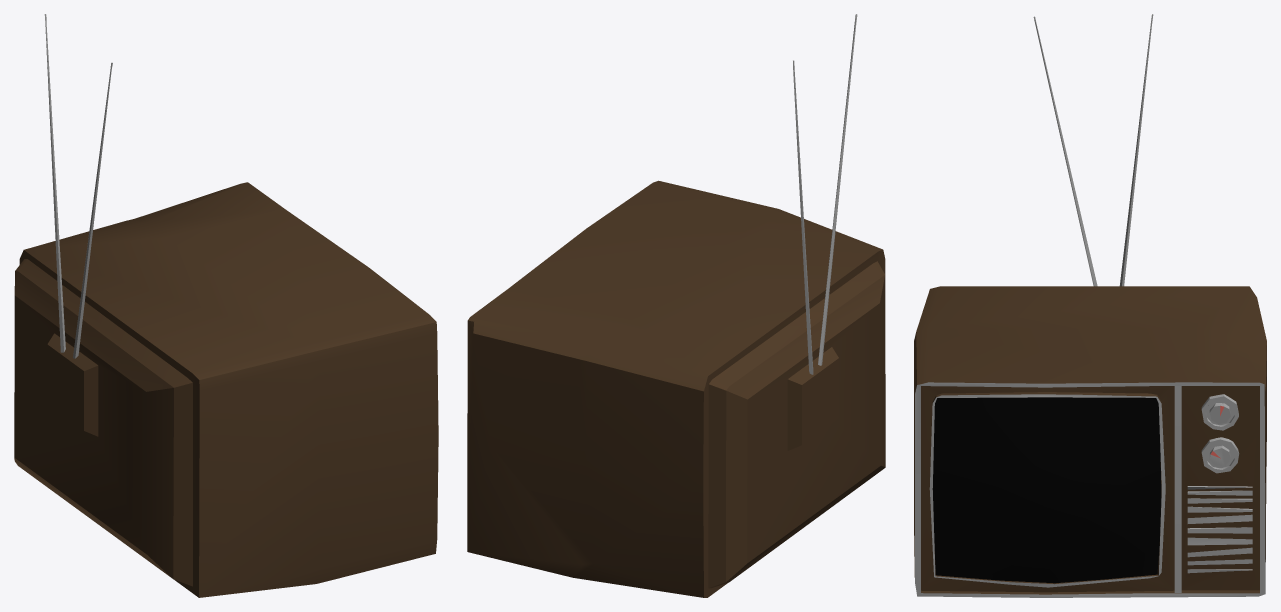
3 renders of one model, left to right at view 1: azimuth 30°, elevation 25°; view 2: azimuth 150°, elevation 25°; view 3: azimuth 270°, elevation 25°, orthographic. The views are drawn at different scales.
Visible parts, largest first — view 1: Cube; view 2: Cube; view 3: Cube.
Boxes of the visible parts, x1=… form: Cube: x1=14, y1=14, x2=438, y2=597; Cube: x1=467, y1=14, x2=885, y2=597; Cube: x1=914, y1=14, x2=1266, y2=597.
Bounding box in the file's own units: 250 × 435 × 298.
